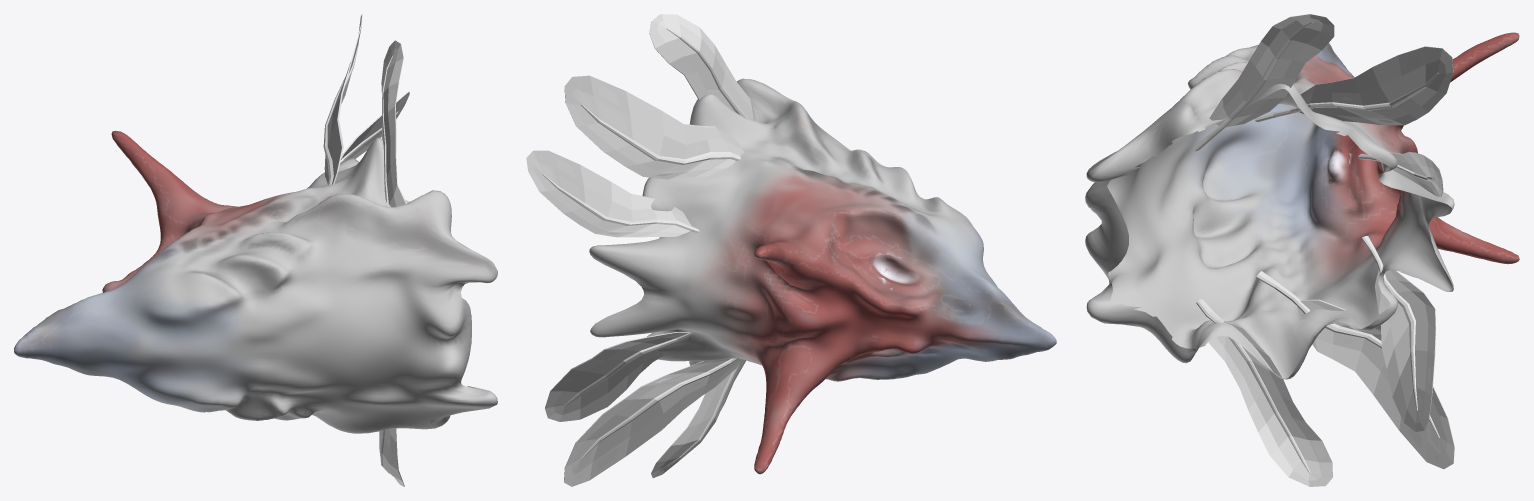
Rendered from bodyPart01-head.gltf.
3 views of the same model, side by side, from view 1: azimuth 30°, elevation 25°; view 2: azimuth 150°, elevation 25°; view 3: azimuth 270°, elevation 25° (orthographic). The views are drawn at different scales.
Visible parts, largest first — view 1: bodyPart01_head_F.001; view 2: bodyPart01_head_F.001; view 3: bodyPart01_head_F.001.
Part boxes in pixels (box(x1,y1,x2,y2)): bodyPart01_head_F.001: box(14, 14, 497, 486); bodyPart01_head_F.001: box(526, 14, 1056, 486); bodyPart01_head_F.001: box(1085, 14, 1519, 486).
Bounding box in the file's own units: 1.76 × 1.65 × 1.37.
2 materials, 1 textured.
